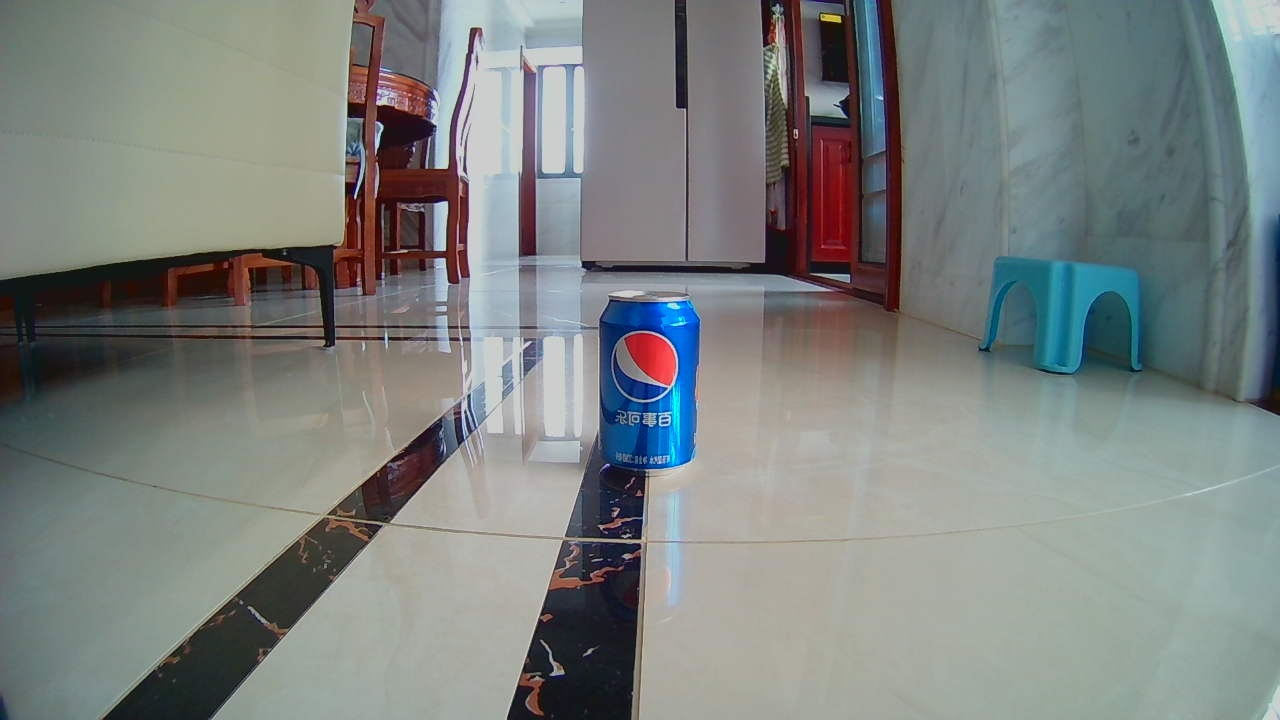pessi: (595, 284, 694, 469)
